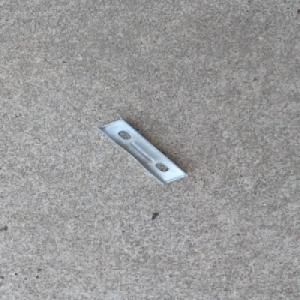ClampPart: (95, 117, 190, 185)
